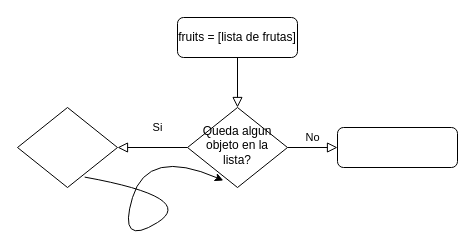
The diagram is 475 pixels wide and 249 high, and some of its shapes have lost their labels. Each missing label, with the centre of its shape:
"i = siguiente numero" goes at pixel 67 147.
"Print ultimaFruta" goes at pixel 397 147.
